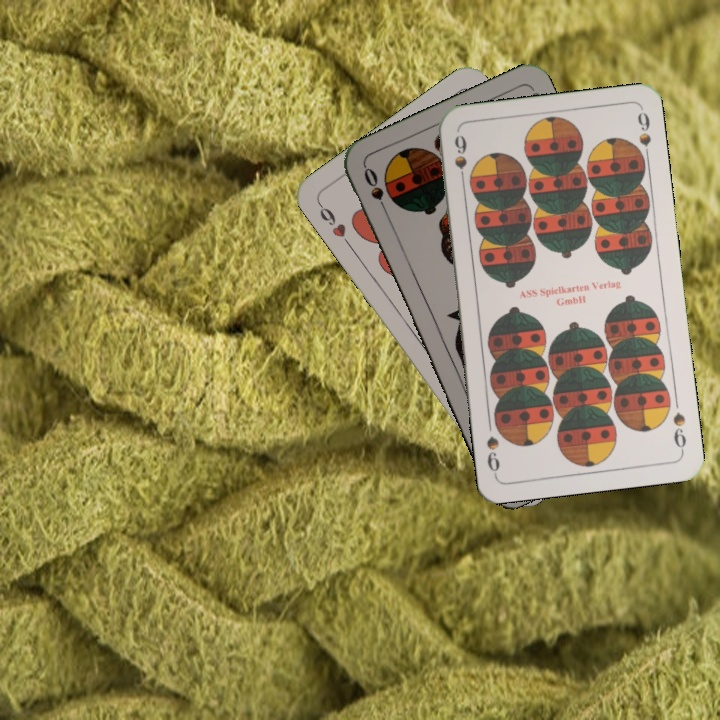H9: (314, 198, 354, 250)
S9: (450, 131, 469, 189), (669, 408, 689, 455)
SO: (359, 163, 392, 219)
